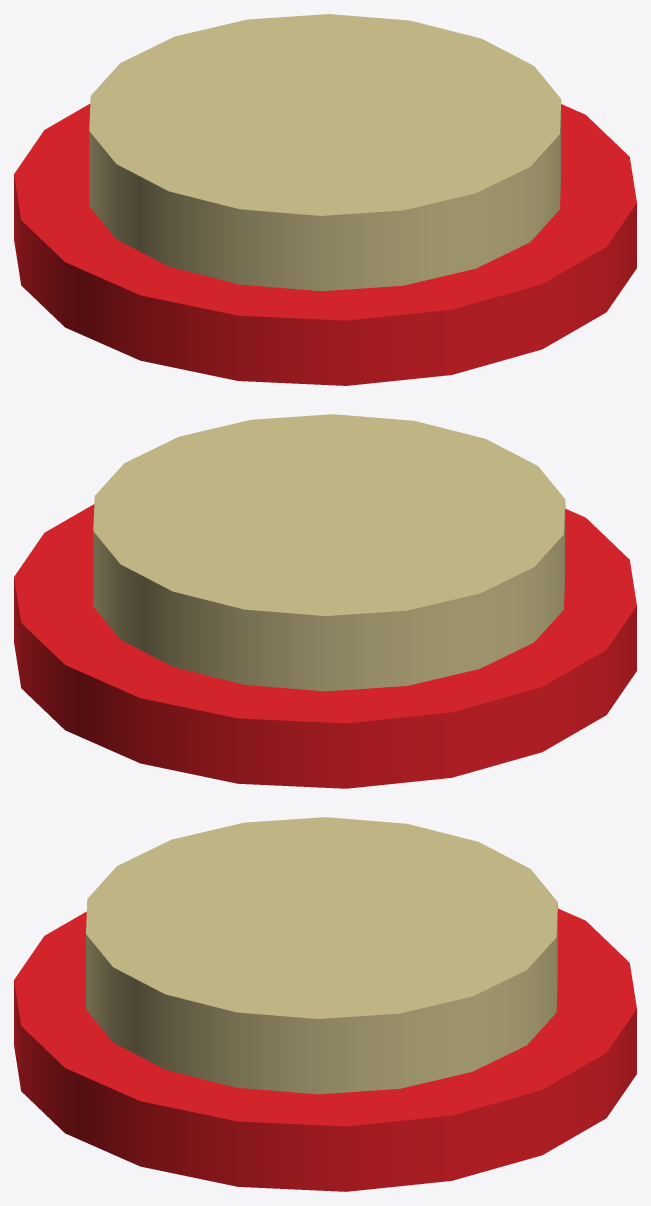
The model's file is Press.FBX.
3 renders of one model, top to bottom at view 1: azimuth 30°, elevation 25°; view 2: azimuth 150°, elevation 25°; view 3: azimuth 270°, elevation 25°, orthographic.
Visible parts, largest first — view 1: Cylinder001, Cylinder002; view 2: Cylinder001, Cylinder002; view 3: Cylinder001, Cylinder002.
Part boxes in pixels (<box>): Cylinder001: <box>89,14,561,291</box>; Cylinder002: <box>14,104,636,385</box>; Cylinder001: <box>93,414,565,691</box>; Cylinder002: <box>14,504,636,788</box>; Cylinder001: <box>86,817,557,1094</box>; Cylinder002: <box>14,908,636,1191</box>.
Size of the model in its own units: 79.95 by 79.65 by 19.84.
2 materials, 2 textured.
